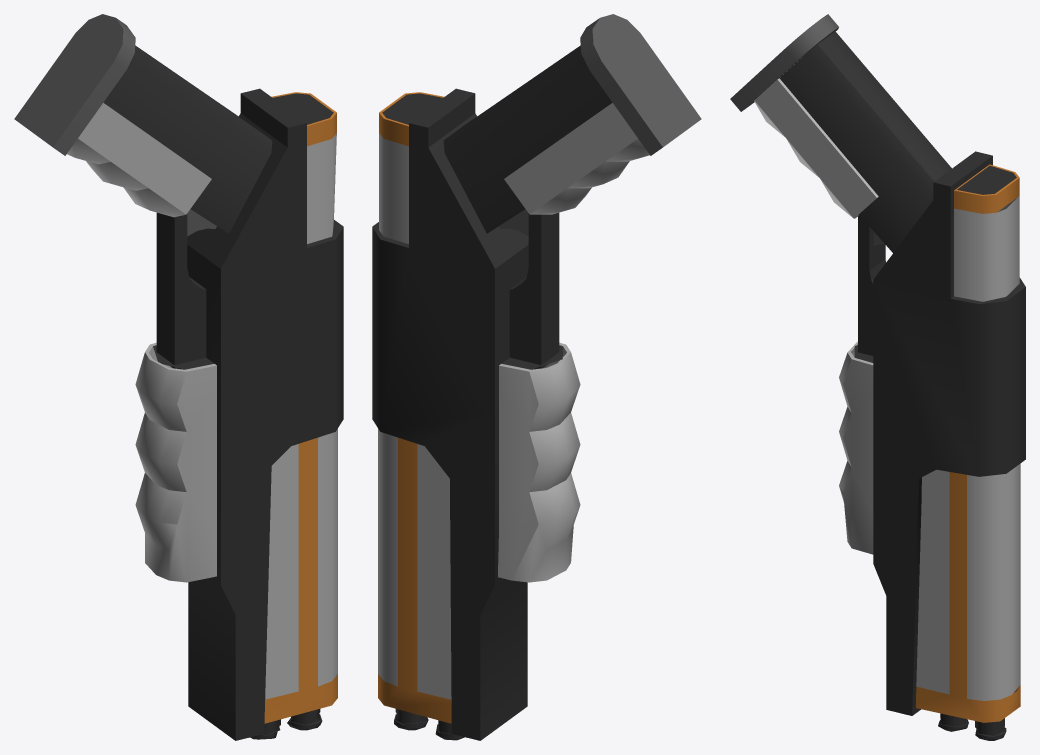
The model's file is qg-pistol-2-lod2.glb.
3 renders of one model, left to right at view 1: azimuth 30°, elevation 25°; view 2: azimuth 150°, elevation 25°; view 3: azimuth 330°, elevation 25°, orthographic. The views are drawn at different scales.
Parts seen in each view (by area): view 1: WeaponMesh_qg-pistol-2_Pistol_2; view 2: WeaponMesh_qg-pistol-2_Pistol_2; view 3: WeaponMesh_qg-pistol-2_Pistol_2.
Part boxes in pixels (left/top/right/bottom): WeaponMesh_qg-pistol-2_Pistol_2: left=14, top=14, right=343, bottom=740; WeaponMesh_qg-pistol-2_Pistol_2: left=372, top=14, right=701, bottom=740; WeaponMesh_qg-pistol-2_Pistol_2: left=730, top=14, right=1025, bottom=740.
Size of the model in its own units: 0.2583 by 0.62 by 0.0704.
